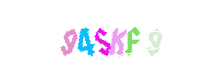4: (54, 0, 134, 80)
9: (96, 0, 176, 80)
F: (92, 0, 172, 80)
G: (45, 0, 125, 80)
K: (64, 0, 144, 80)
S: (63, 0, 143, 80)
